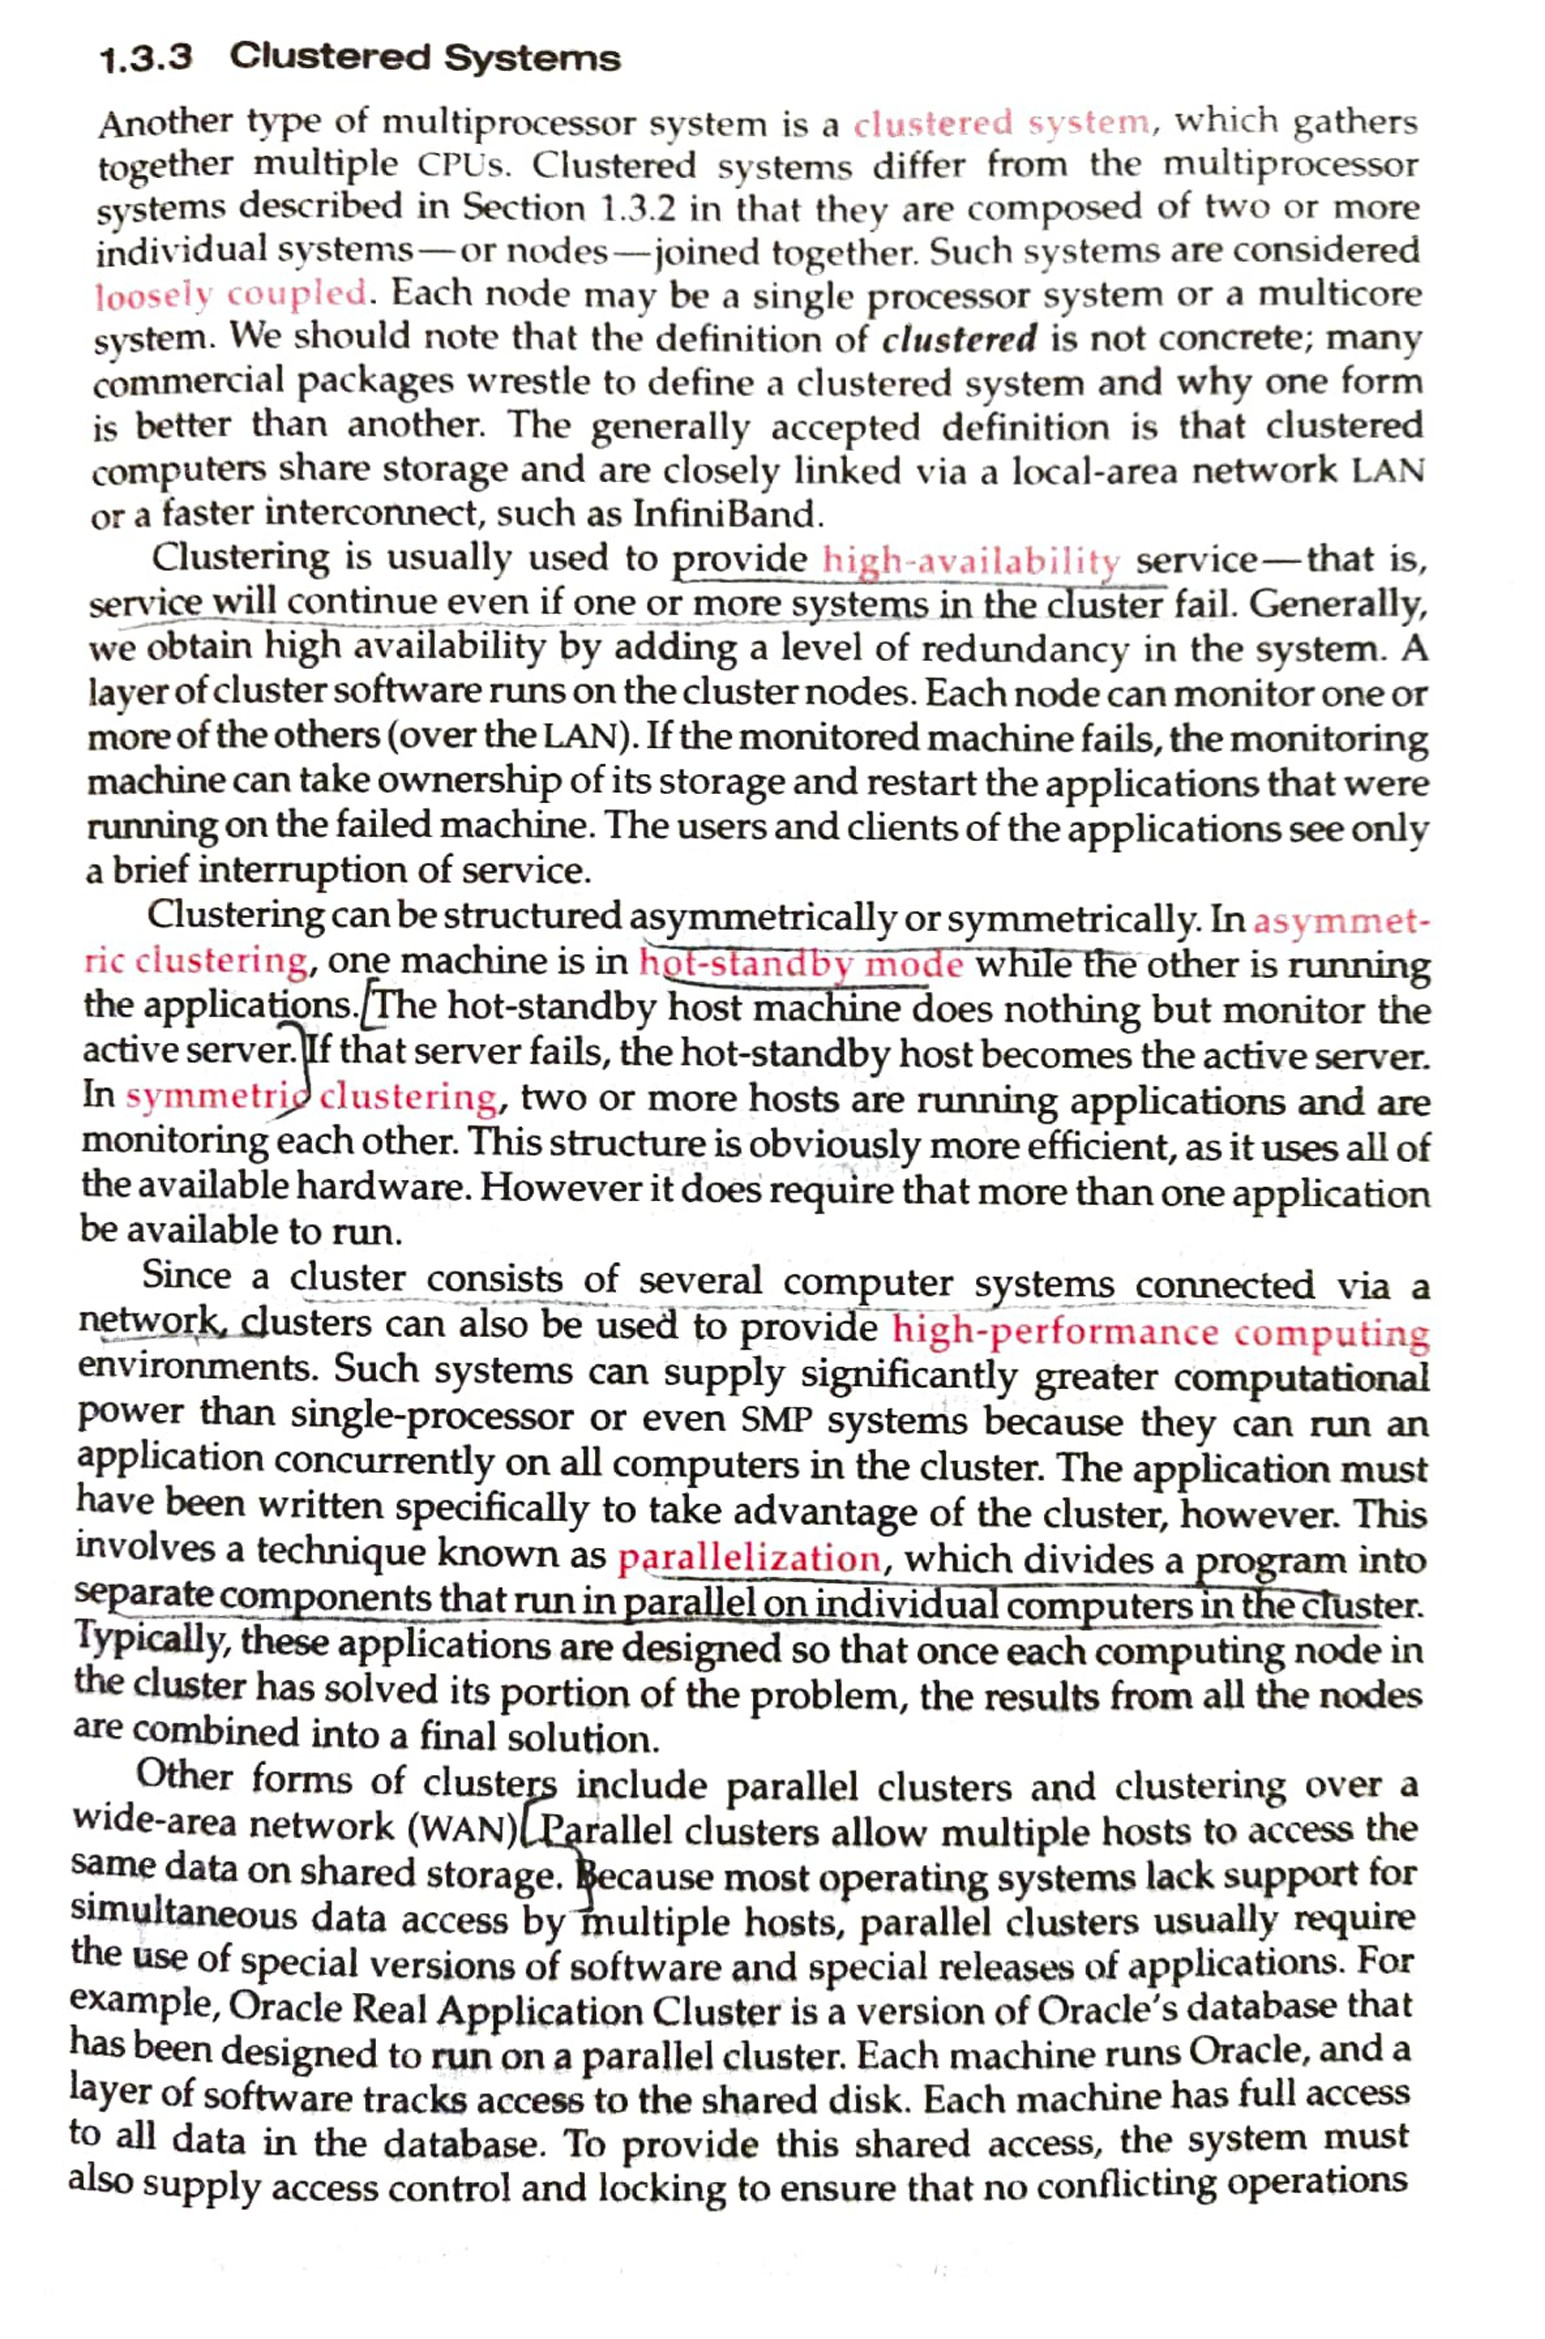BB1: (60, 83, 1473, 538)
BB2: (50, 529, 1479, 895)
BB3: (53, 901, 1466, 1258)
BB4: (57, 1262, 1481, 1758)
BB5: (57, 1748, 1473, 2251)
